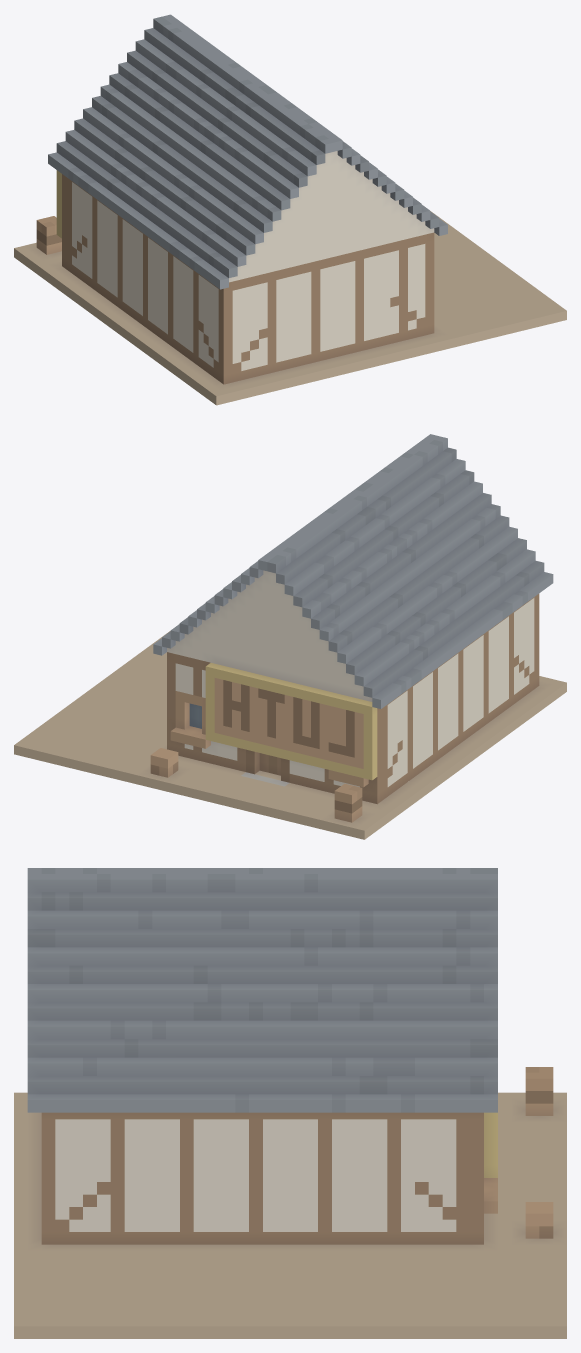
File: luthier.glb
3 views of the same model, one above another, from view 1: azimuth 30°, elevation 25°; view 2: azimuth 150°, elevation 25°; view 3: azimuth 270°, elevation 25° (orthographic). The views are drawn at different scales.
Visible parts, largest first — view 1: luthier; view 2: luthier; view 3: luthier.
Boxes of the visible parts, <box> form: luthier: <box>14,14,566,405</box>; luthier: <box>14,434,566,839</box>; luthier: <box>14,868,566,1338</box>.
Bounding box in the file's own units: 5 × 3.12 × 5.
